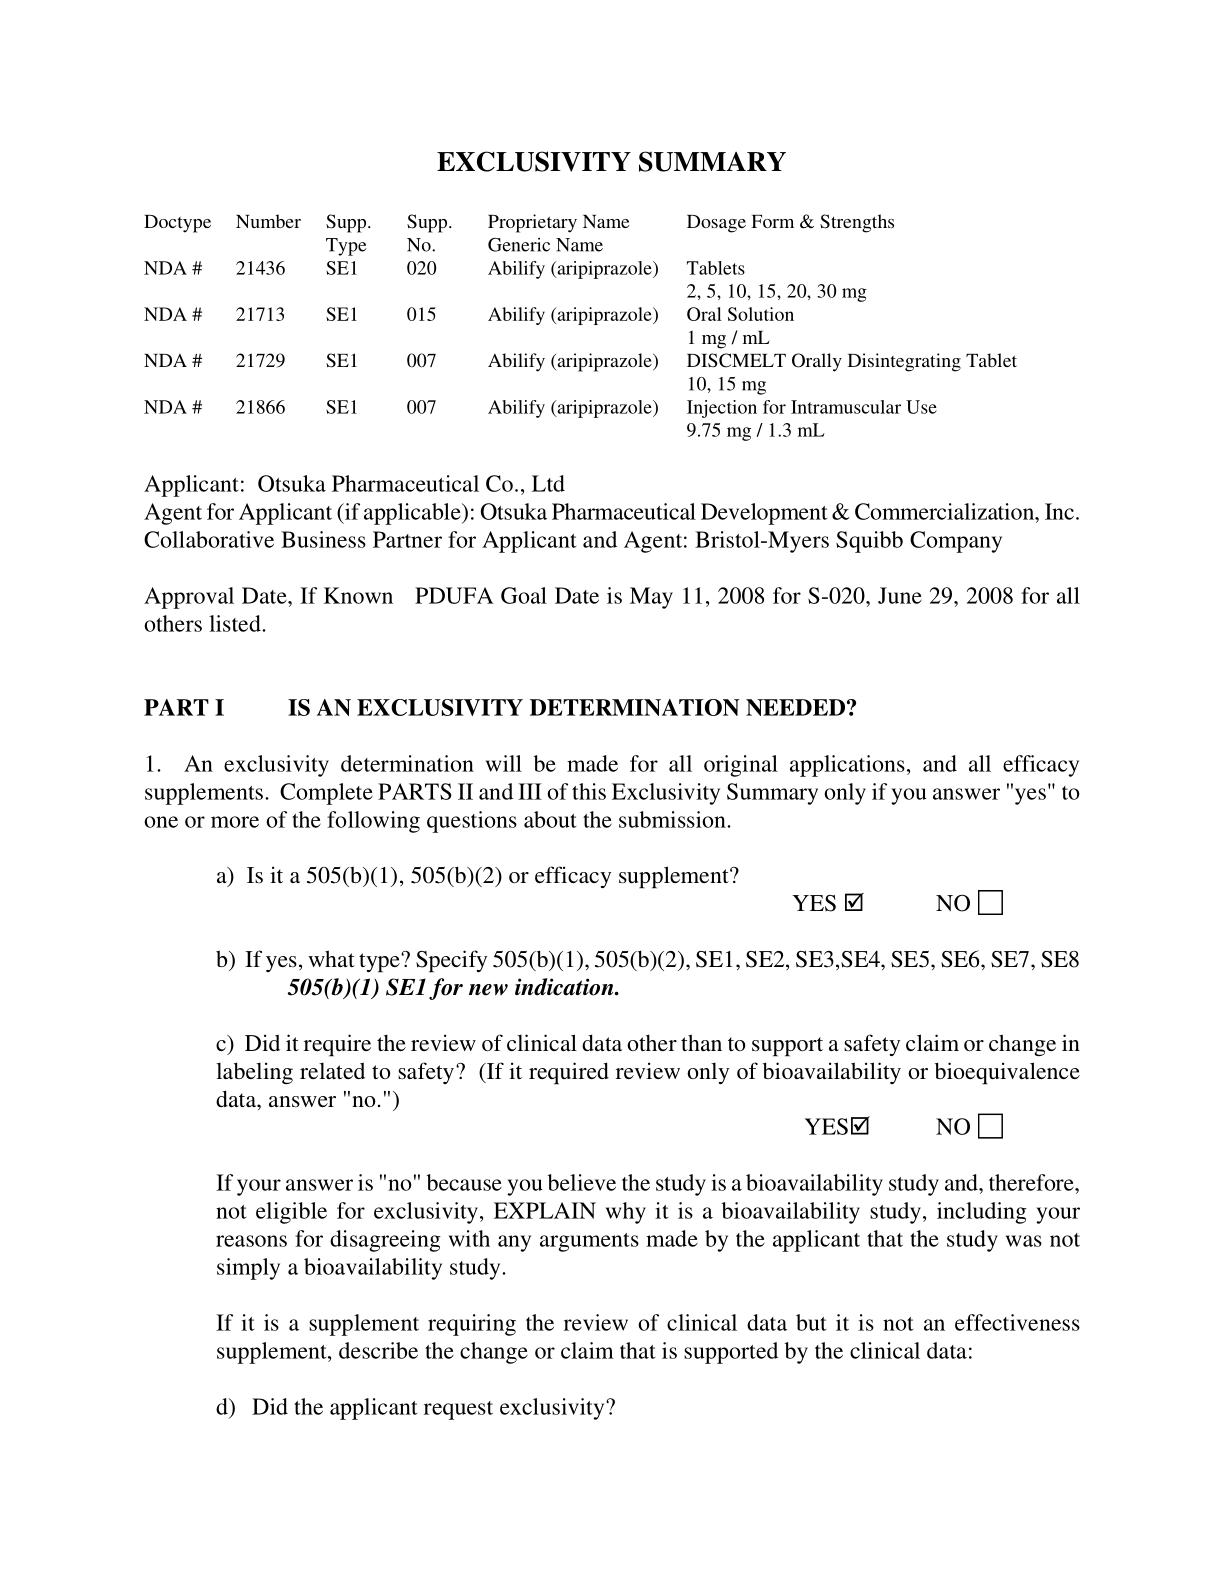nolines: (141, 211, 1020, 441)
